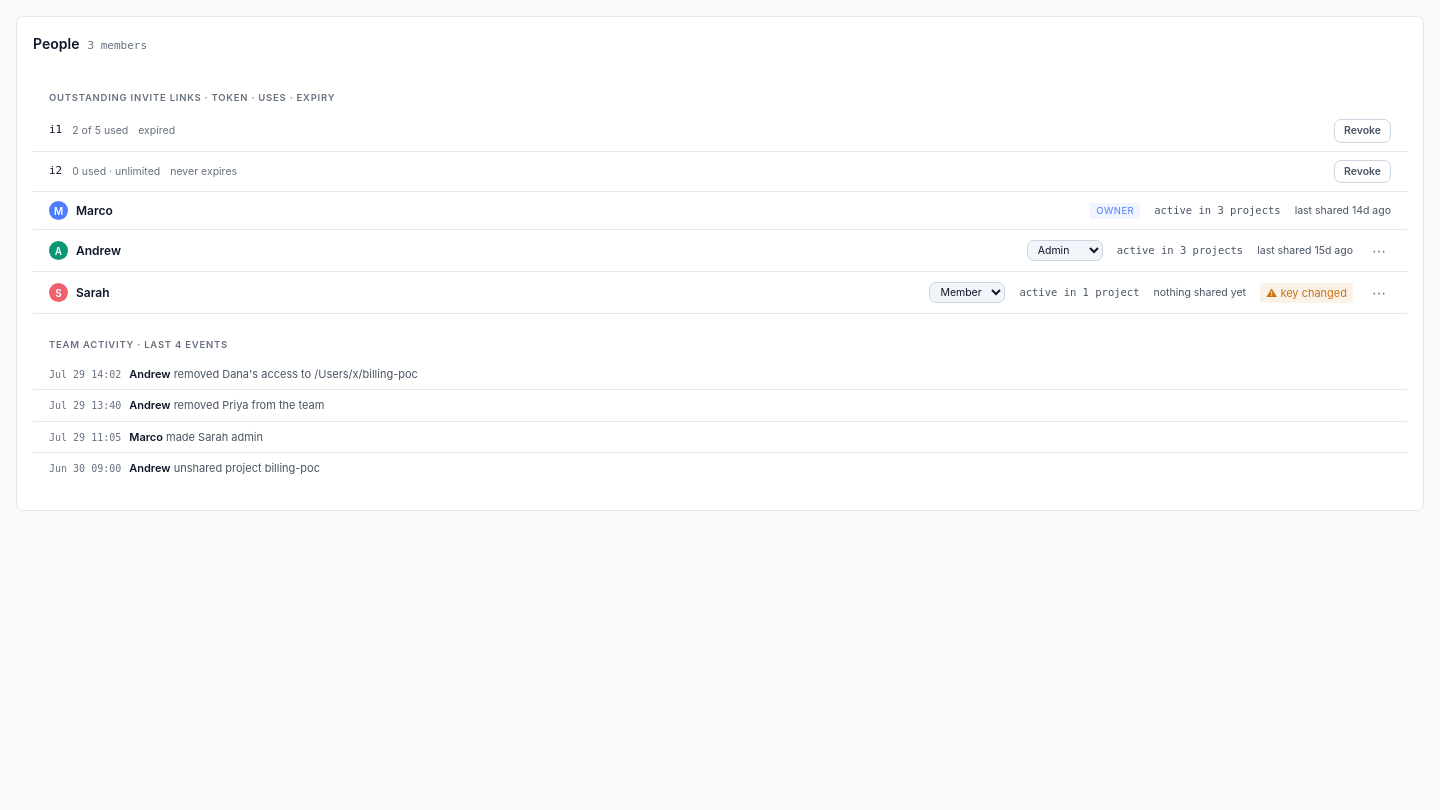
MembersSection (the People section of the Team page) › removal warns that the member's per-project blocks will be lost › reads as one block, not "1 projects", for a single revoke
The image size is (1440, 810).
Click the button named "more actions for Sarah": (1379, 293) [1367,281,1391,304]
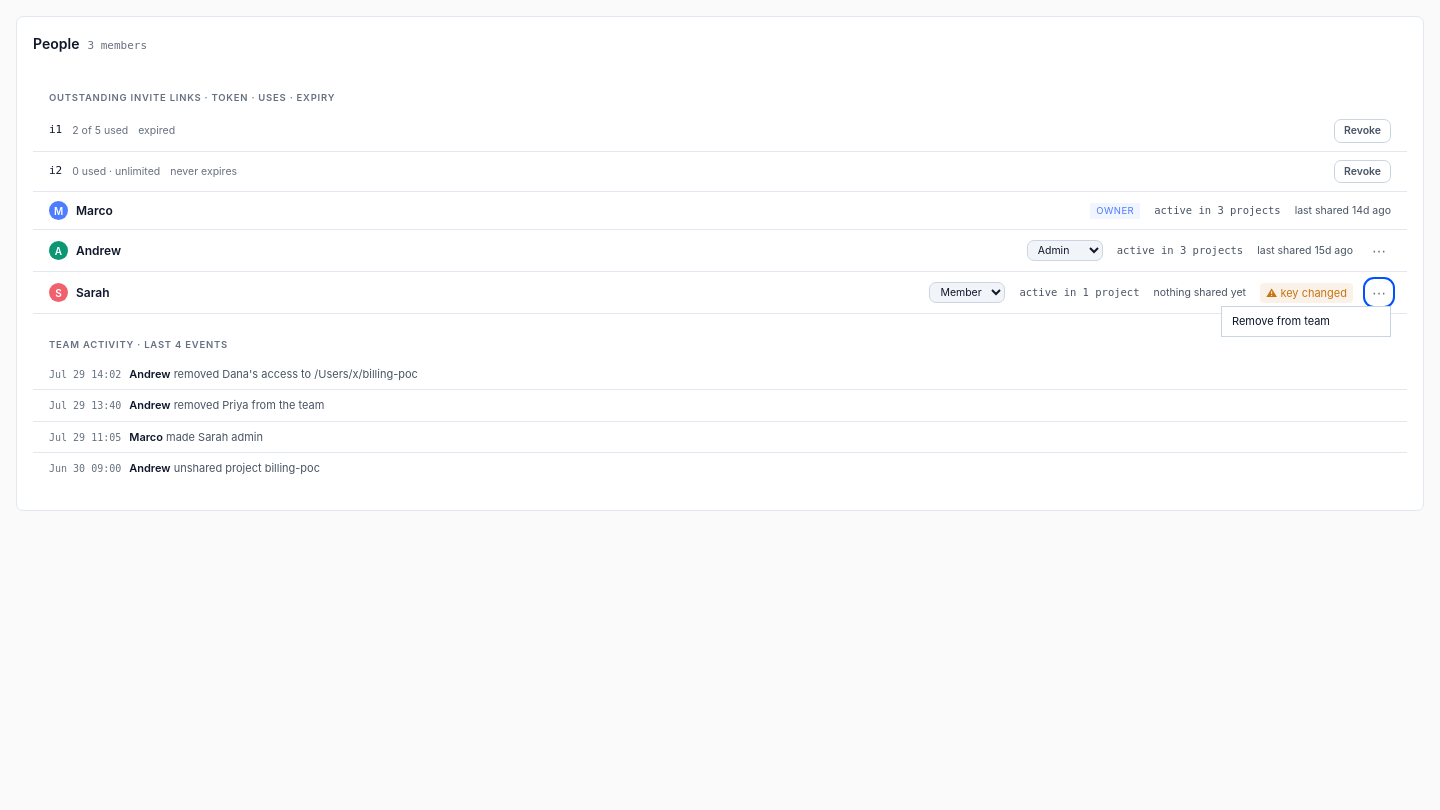
Click the menu item "Remove from team": (1306, 322) [1222,307,1390,336]
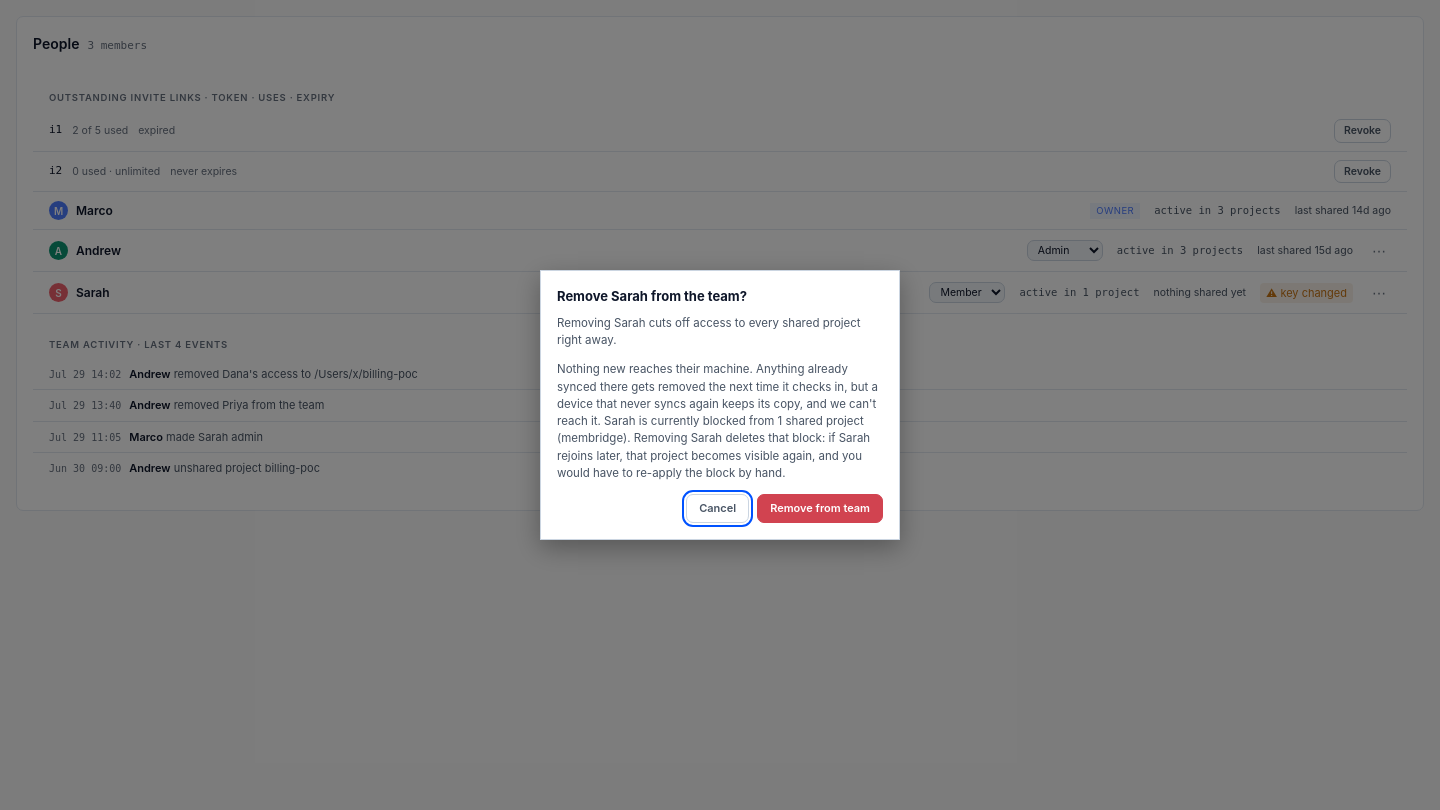
expect the dialog shows "deletes that block": met, box [557,362,878,480]
expect the dialog shows "that project becomes visible again": met, box [557,362,878,480]
